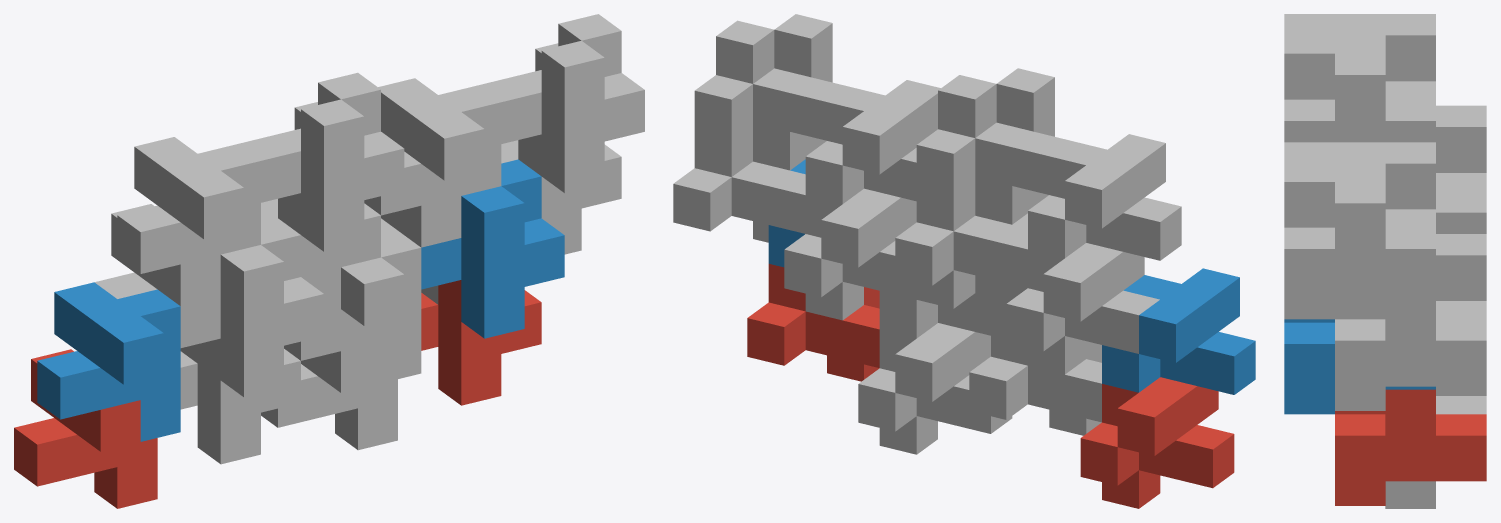
File: tiling.obj
The picture shows the model from 3 angles, left to right: view 1: azimuth 30°, elevation 25°; view 2: azimuth 150°, elevation 25°; view 3: azimuth 270°, elevation 25°; orthographic projection. The views are drawn at different scales.
Parts seen in each view (by area): view 1: copy_1_domain_2, copy_2_domain_8, copy_2_domain_4, copy_1_domain_4, copy_2_domain_6, copy_2_domain_2, copy_1_domain_8, copy_1_domain_1, copy_1_domain_6, copy_1_domain_5, copy_2_domain_5, copy_2_domain_1 (+4 smaller); view 2: copy_1_domain_4, copy_1_domain_1, copy_2_domain_4, copy_2_domain_8, copy_1_domain_3, copy_1_domain_2, copy_1_domain_5, copy_1_domain_7, copy_2_domain_3, copy_2_domain_7, copy_1_domain_8, copy_2_domain_5 (+4 smaller); view 3: copy_2_domain_8, copy_2_domain_7, copy_2_domain_5, copy_2_domain_4, copy_1_domain_4, copy_1_domain_8, copy_2_domain_6, copy_1_domain_3, copy_1_domain_7, copy_1_domain_5, copy_2_domain_3.
Part boxes in pixels (x1,y1,x2,y2): copy_1_domain_2: (37, 282, 180, 441); copy_2_domain_8: (479, 14, 644, 193); copy_2_domain_4: (238, 72, 404, 251); copy_1_domain_4: (117, 137, 260, 273); copy_2_domain_6: (421, 159, 564, 338); copy_2_domain_2: (180, 218, 323, 397); copy_1_domain_8: (364, 78, 501, 215); copy_1_domain_1: (14, 349, 157, 508); copy_1_domain_6: (284, 231, 421, 383); copy_1_domain_5: (261, 341, 397, 450); copy_2_domain_5: (421, 280, 541, 405); copy_2_domain_1: (180, 338, 300, 464); copy_1_domain_4: (1028, 134, 1181, 260); copy_1_domain_1: (1080, 377, 1234, 508); copy_2_domain_4: (916, 68, 1069, 205); copy_2_domain_8: (694, 14, 847, 151); copy_1_domain_3: (1006, 243, 1159, 374); copy_1_domain_2: (1102, 268, 1255, 394); copy_1_domain_5: (858, 323, 1012, 454); copy_1_domain_7: (784, 188, 916, 320); copy_2_domain_3: (895, 177, 1033, 296); copy_2_domain_7: (673, 123, 811, 242); copy_1_domain_8: (805, 80, 940, 204); copy_2_domain_5: (747, 264, 879, 381); copy_2_domain_8: (1284, 160, 1435, 319); copy_2_domain_7: (1335, 295, 1486, 410); copy_2_domain_5: (1335, 389, 1486, 505); copy_2_domain_4: (1284, 32, 1435, 142); copy_1_domain_4: (1284, 14, 1435, 99); copy_1_domain_8: (1284, 142, 1435, 227); copy_2_domain_6: (1284, 319, 1435, 414); copy_1_domain_3: (1436, 105, 1486, 191); copy_1_domain_7: (1436, 234, 1486, 319); copy_1_domain_5: (1385, 386, 1486, 508); copy_2_domain_3: (1436, 191, 1486, 233).
Bounding box in the file's own units: 14 × 9 × 4.
